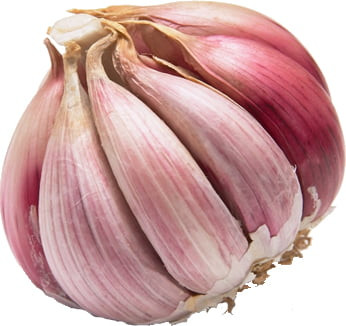garlic: (2, 1, 346, 325)
